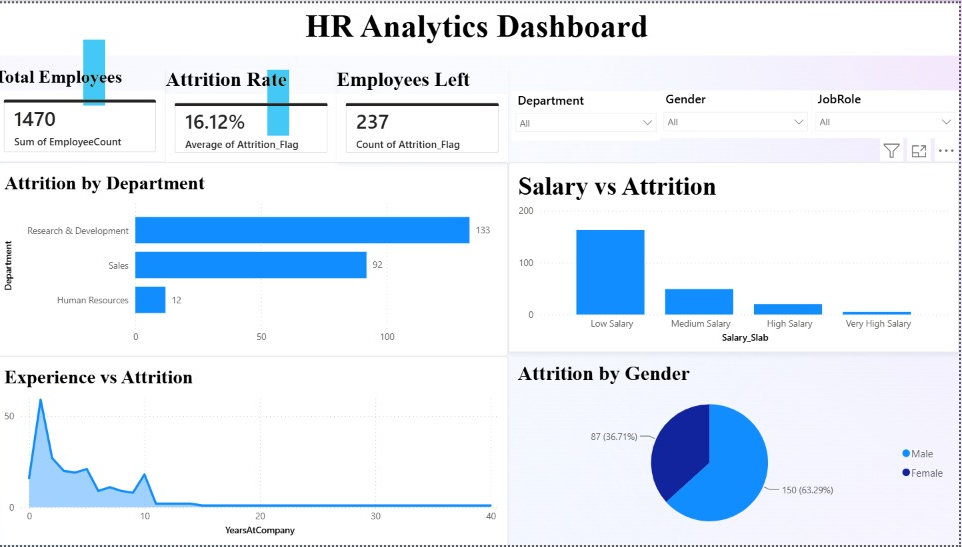

Layout of this report page (visuals, bound fields, positions):
{"tool":"powerbi","page":{"name":"HR Analytics Dashboard","canvas":[1280,720],"ordinal":0},"visuals":[{"type":"cardVisual","title":"Total Employees","fields":{"Data":["Sum(Sheet1.EmployeeCount)","select","select1"]},"box":[0,83.3,226.5,125.7],"z":1000},{"type":"cardVisual","title":"Attrition Rate","fields":{"Data":["Avg(Sheet1.Attrition_Flag)"]},"box":[227.1,84.8,227.1,125.7],"z":2000},{"type":"clusteredBarChart","title":"Attrition by Department","fields":{"Category":["Sheet1.Department"],"Y":["CountNonNull(Sheet1.Attrition_Flag)"]},"box":[0,210.5,681.4,257.4],"z":3000},{"type":"pieChart","title":"Attrition by Gender","fields":{"Category":["Sheet1.Gender"],"Y":["CountNonNull(Sheet1.Attrition_Flag)"]},"box":[681.4,463.3,598.1,257.4],"z":4000},{"type":"cardVisual","title":"Employees Left","fields":{"Data":["CountNonNull(Sheet1.Attrition_Flag)"]},"box":[454.3,84.8,227.1,125.7],"z":5000},{"type":"clusteredColumnChart","title":"Salary vs Attrition","fields":{"Category":["Sheet1.Salary_Slab"],"Y":["CountNonNull(Sheet1.Attrition_Flag)"]},"box":[681.4,210.5,598.1,252.9],"z":6000},{"type":"areaChart","title":"Experience vs Attrition","fields":{"Category":["Sheet1.YearsAtCompany"],"Y":["CountNonNull(Sheet1.Attrition_Flag)"]},"box":[0,467.9,681.4,251.4],"z":7000},{"type":"slicer","fields":{"Values":["Sheet1.Department"]},"box":[685.9,116.6,196.8,65.1],"z":8000},{"type":"slicer","fields":{"Values":["Sheet1.Gender"]},"box":[882.8,115.1,201.4,63.6],"z":9000},{"type":"slicer","fields":{"Values":["Sheet1.JobRole"]},"box":[1084.2,115.1,195.3,63.6],"z":10000},{"type":"textbox","box":[0,0,1279.5,69.7],"z":10001}]}

Visuals, with their boxes in screenshot pixels (x1, y1, x2, y2), scaled from the page's 1280x720 canvas onto the 962x547 screenshot:
"Total Employees" cardVisual: [0, 63, 170, 159]
"Attrition Rate" cardVisual: [171, 64, 341, 160]
"Attrition by Department" clusteredBarChart: [0, 160, 512, 355]
"Attrition by Gender" pieChart: [512, 352, 961, 546]
"Employees Left" cardVisual: [341, 64, 512, 160]
"Salary vs Attrition" clusteredColumnChart: [512, 160, 961, 352]
"Experience vs Attrition" areaChart: [0, 355, 512, 546]
slicer - Sheet1.Department: [515, 89, 663, 138]
slicer - Sheet1.Gender: [663, 87, 815, 136]
slicer - Sheet1.JobRole: [815, 87, 961, 136]
textbox: [0, 0, 961, 53]
